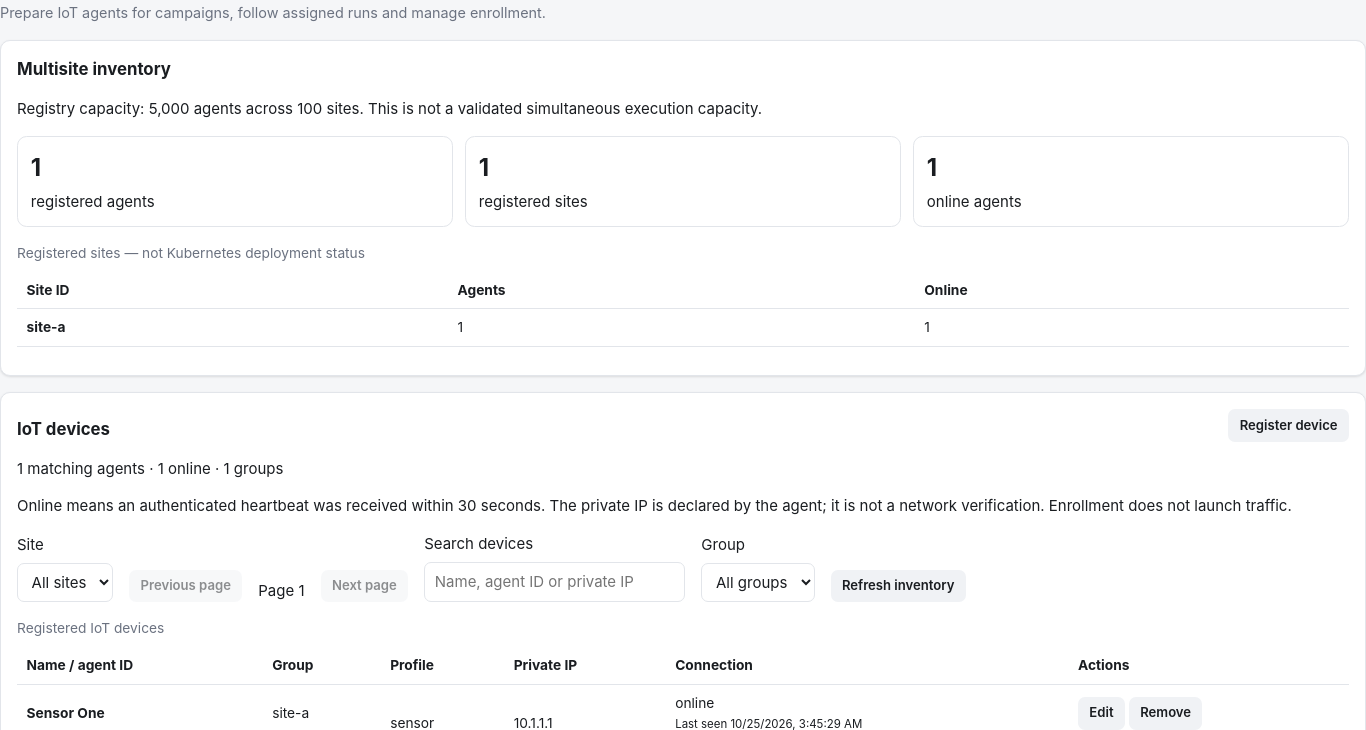
Test: keeps rejected edits visible and exposes unknown connection state after refresh failure
What coordinates should you click on to do the following:
click the button with aria-label "Edit Sensor One"
I would click on:
 (1102, 713)
Its box is [1078,697,1125,729].
(page scrolled)
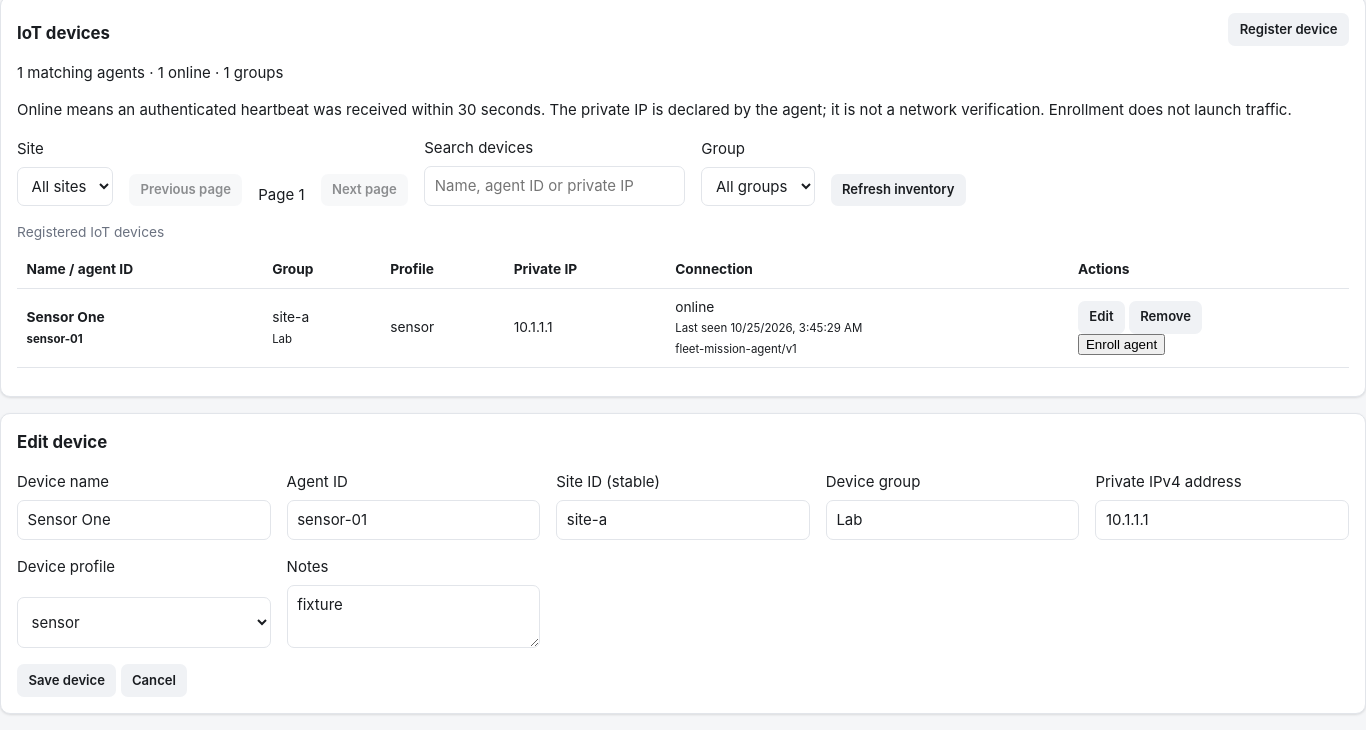
What coordinates should you click on to do the following:
click the button "Save device"
I would click on:
 (67, 680)
Its box is [17,664,116,697].
(page scrolled)
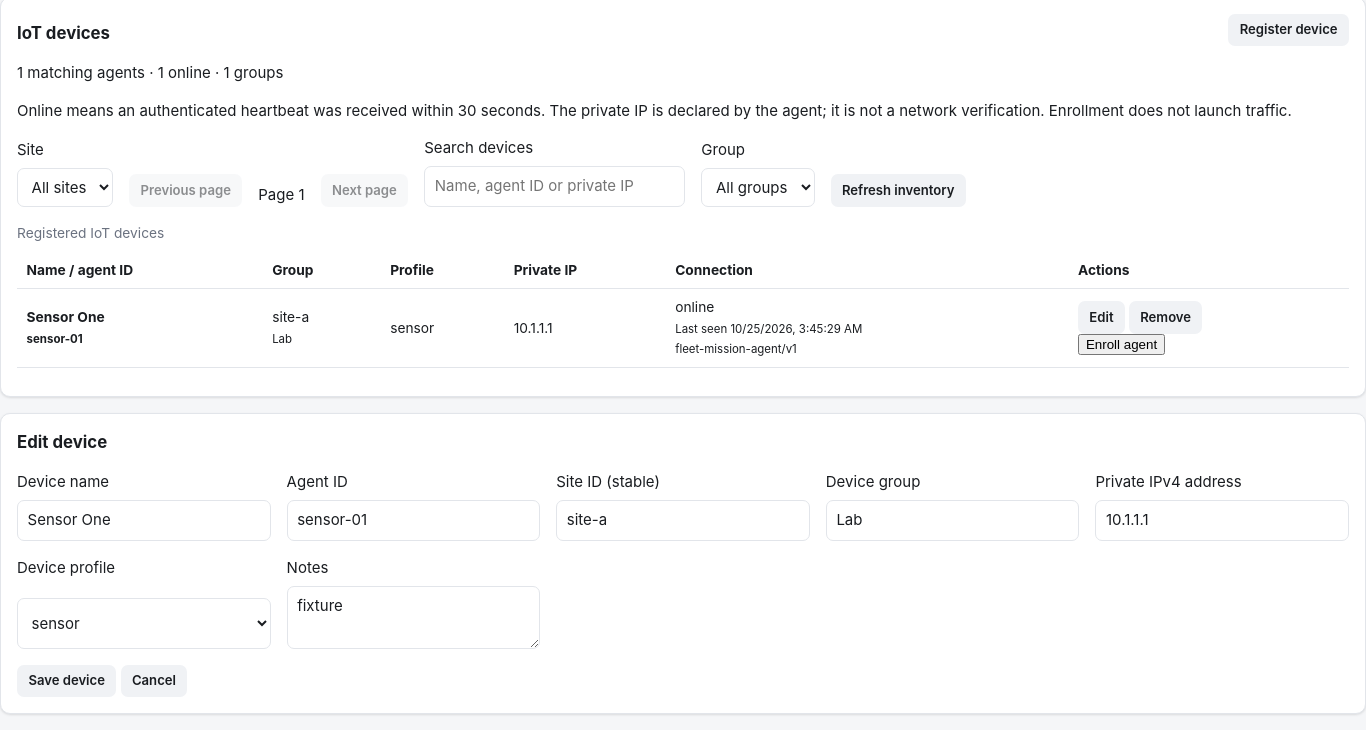
Expected: the field labelled "Device name" holds "Sensor One", [17,500,271,541]
What coordinates should you click on to do the following:
click the button "Cancel"
I would click on:
 (154, 681)
Its box is [120,664,187,697].
(page scrolled)
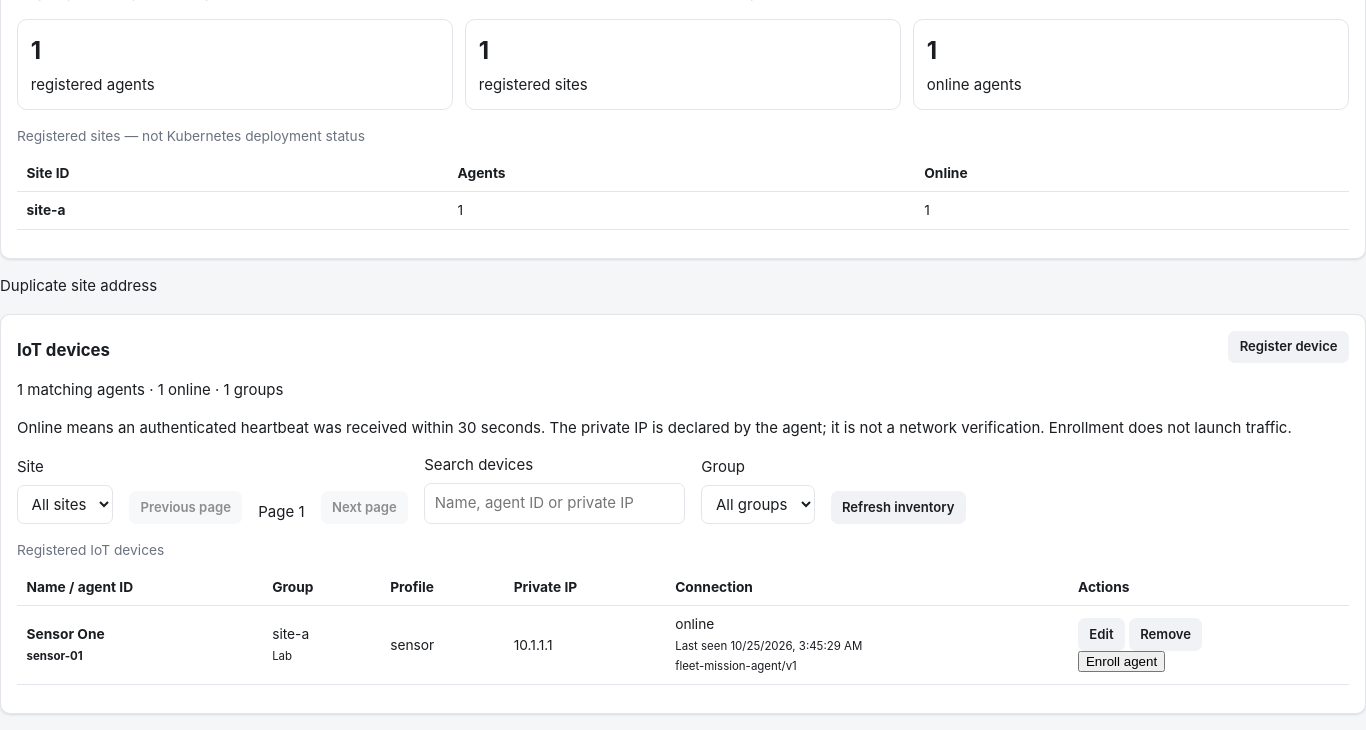
What coordinates should you click on to do the following:
click the button "Refresh inventory"
I would click on:
 (898, 507)
Its box is [830,491,966,524].
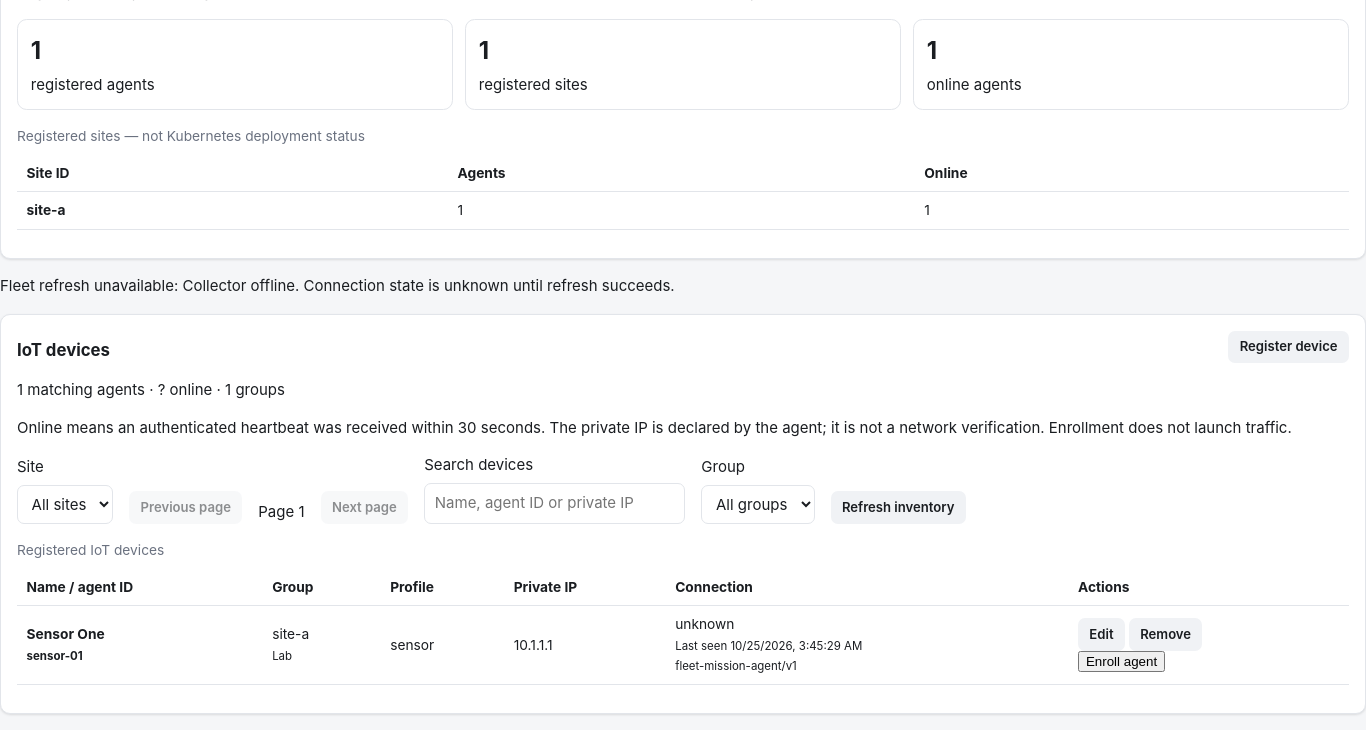
Expected: the text "Fleet refresh unavailable" is shown, [0,276,182,295]
Expected: the text "unknown" is shown, [675,616,734,632]
What coordinates should you click on to do the following:
click the button "Refresh inventory"
I would click on:
 (898, 507)
Its box is [830,491,966,524].
(page scrolled)
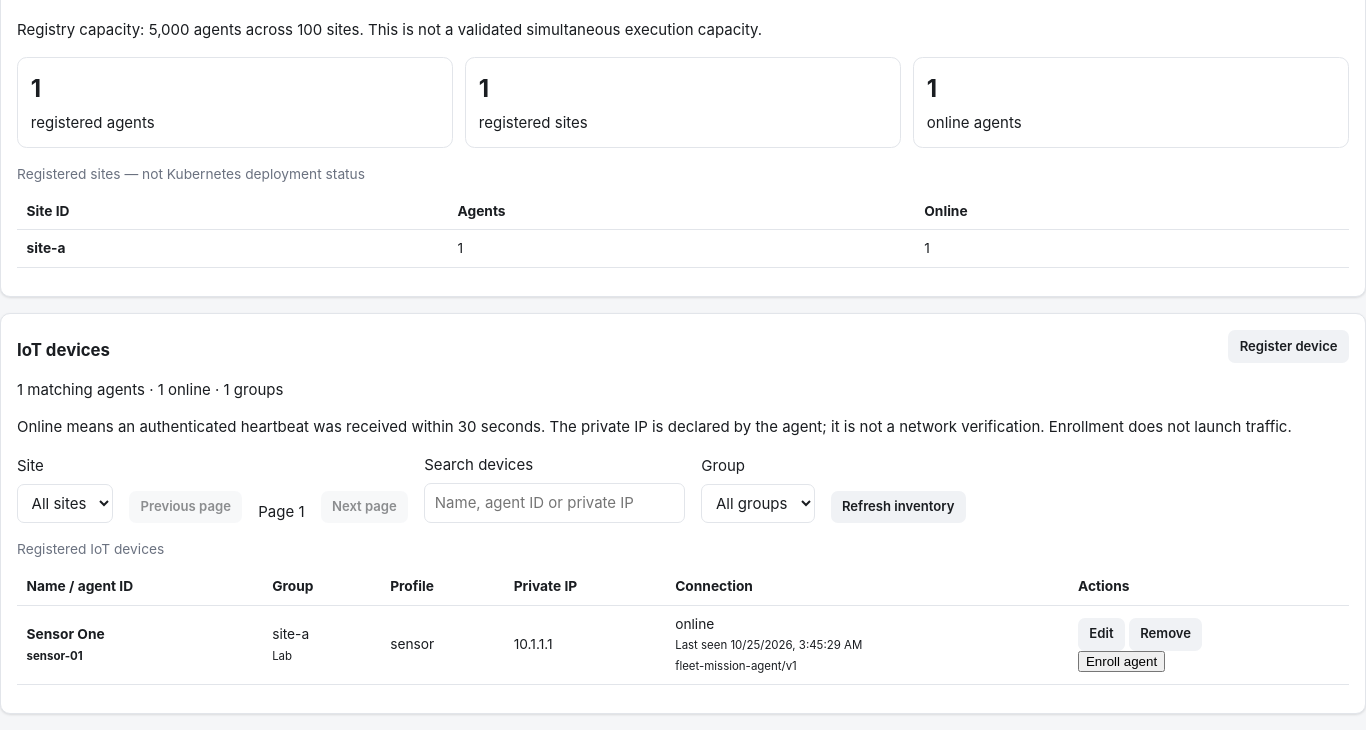
Expected: the text "Fleet refresh unavailable" is gone
Expected: the text "online" is shown, [675,616,714,632]
